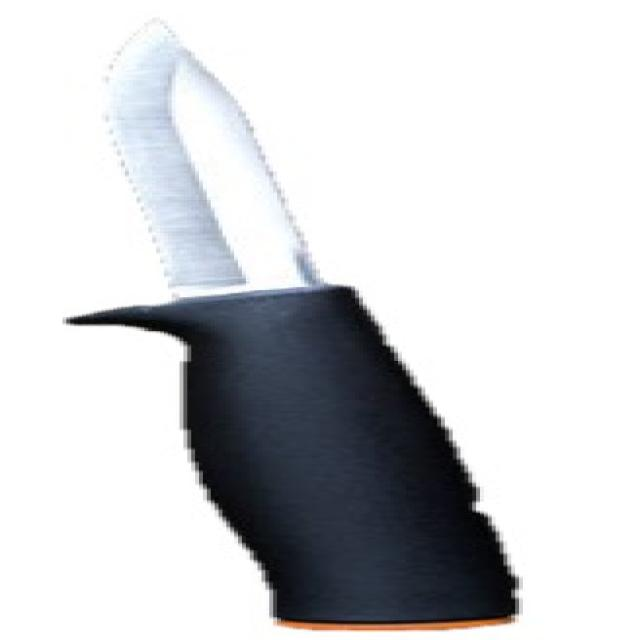knife: (67, 10, 557, 635)
